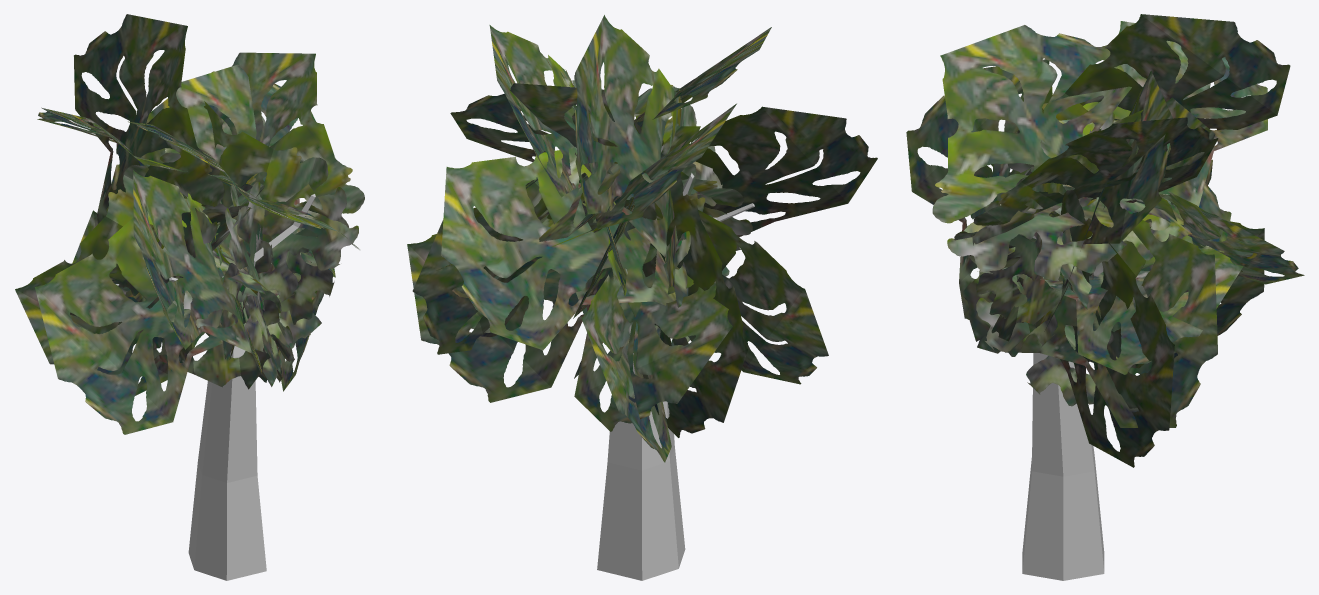
Rendered from tree.obj.
3 views of the same model, side by side, from view 1: azimuth 30°, elevation 25°; view 2: azimuth 150°, elevation 25°; view 3: azimuth 270°, elevation 25° (orthographic). The views are drawn at different scales.
Visible parts, largest first — view 1: leaves, Cube; view 2: leaves, Cube; view 3: leaves, Cube.
Boxes of the visible parts, x1,y1,x2,y2 form: leaves: (15,14,364,434); Cube: (169,194,315,580); leaves: (407,15,877,462); Cube: (597,173,754,580); leaves: (906,14,1304,467); Cube: (1022,210,1104,580).
Bounding box in the file's own units: 7.27 × 10.93 × 7.2.
